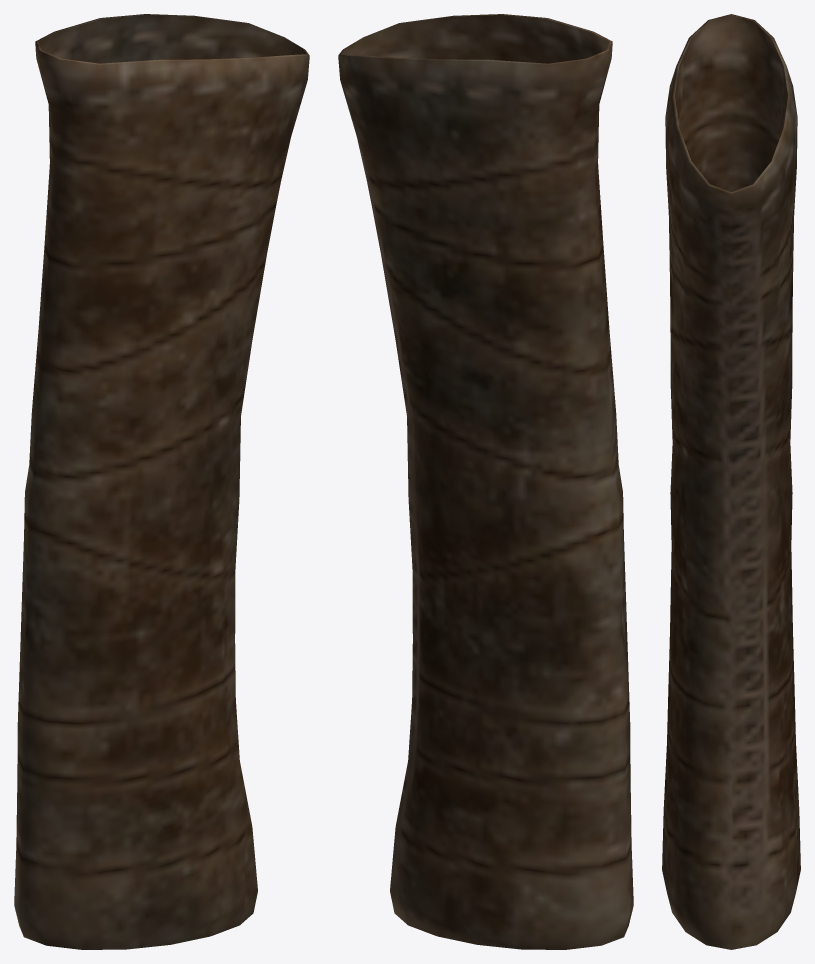
Rendered from wm_dol_goldur_1h_sword_a02_handle.fbx.
The picture shows the model from 3 angles, left to right: view 1: azimuth 30°, elevation 25°; view 2: azimuth 150°, elevation 25°; view 3: azimuth 270°, elevation 25°; orthographic projection. The views are drawn at different scales.
Parts seen in each view (by area): view 1: wm_dol_goldur_1h_sword_a02_handle; view 2: wm_dol_goldur_1h_sword_a02_handle; view 3: wm_dol_goldur_1h_sword_a02_handle.
Boxes of the visible parts, x1=… form: wm_dol_goldur_1h_sword_a02_handle: x1=14, y1=14, x2=309, y2=949; wm_dol_goldur_1h_sword_a02_handle: x1=338, y1=14, x2=633, y2=949; wm_dol_goldur_1h_sword_a02_handle: x1=662, y1=14, x2=800, y2=949.
Bounding box in the file's own units: 0.0622 × 0.0281 × 0.188.
Materials: 1 (1 with a texture image).
